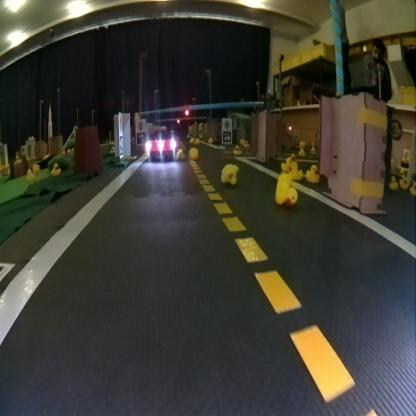Duckie: (274, 174, 296, 206), (220, 163, 238, 185), (306, 164, 319, 182), (288, 162, 302, 177), (50, 162, 61, 175), (281, 157, 291, 170), (188, 146, 198, 158), (176, 148, 184, 160), (388, 176, 396, 188), (26, 168, 34, 180), (232, 146, 241, 152), (207, 137, 213, 145)
Duckiebot: (146, 132, 176, 160)
Intersection sign: (221, 118, 230, 128)
QR code: (119, 134, 124, 157), (136, 132, 144, 144), (222, 131, 230, 141)
